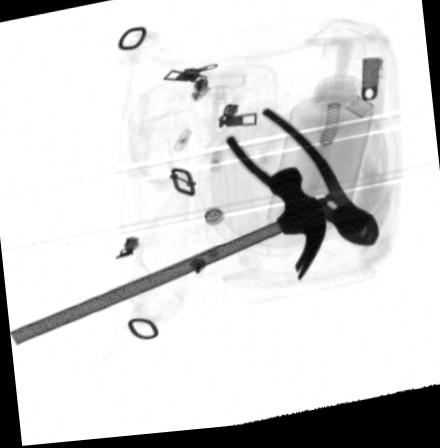Hammer: (11, 171, 328, 346)
Pliers: (224, 111, 380, 255)
